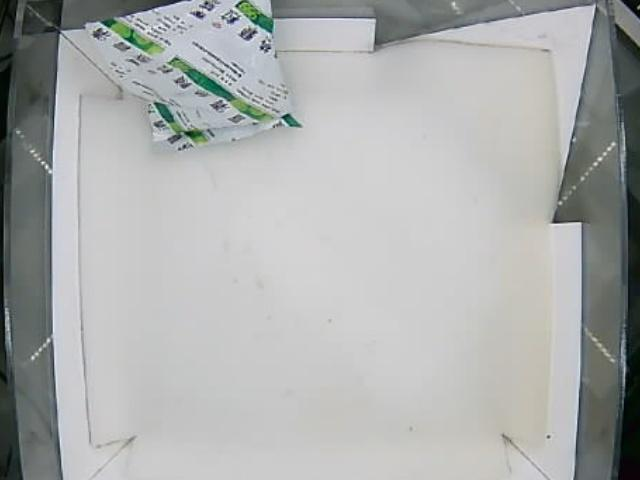Medicine: (82, 1, 302, 160)
